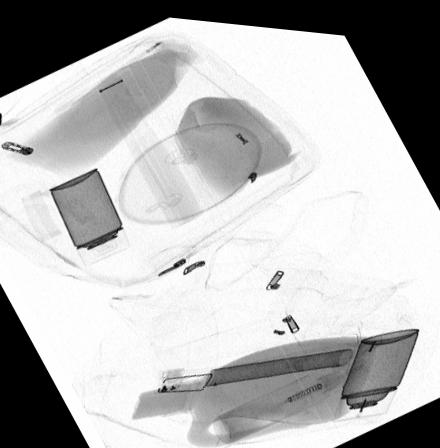Sprayer: (330, 319, 418, 415), (47, 165, 129, 265)
